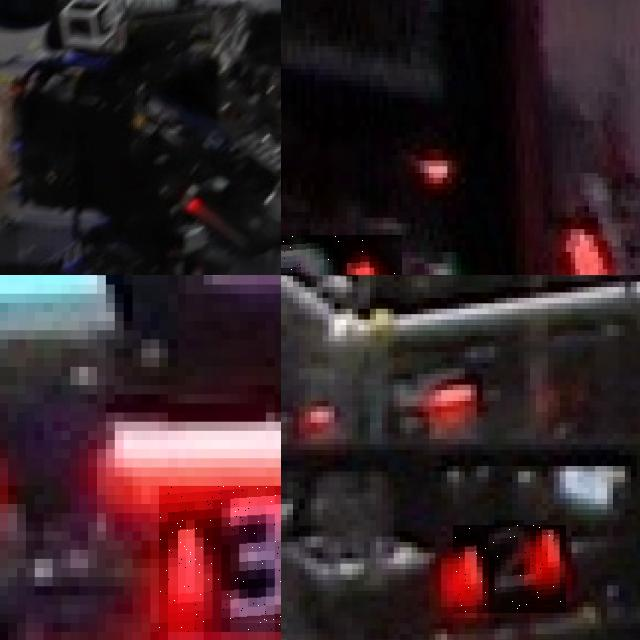R2: (453, 525, 566, 613)
R3: (159, 485, 281, 632)
